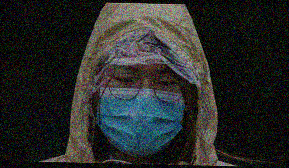with_mask: (94, 64, 186, 157)
